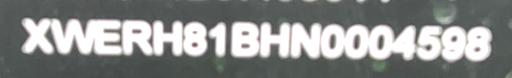letter: (50, 15, 94, 54), (18, 14, 54, 54), (290, 20, 322, 62), (150, 19, 184, 58), (258, 19, 290, 59), (93, 16, 123, 57), (228, 19, 258, 60), (123, 18, 153, 58), (464, 25, 496, 62), (318, 20, 346, 60), (366, 22, 394, 59), (392, 20, 416, 63), (416, 23, 442, 61), (344, 21, 368, 62), (207, 19, 231, 59), (182, 19, 206, 57), (442, 23, 466, 61)
